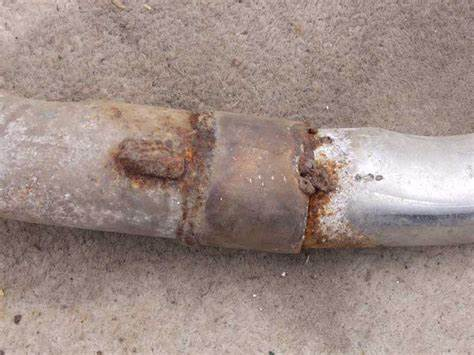Severe: (103, 99, 359, 258)
